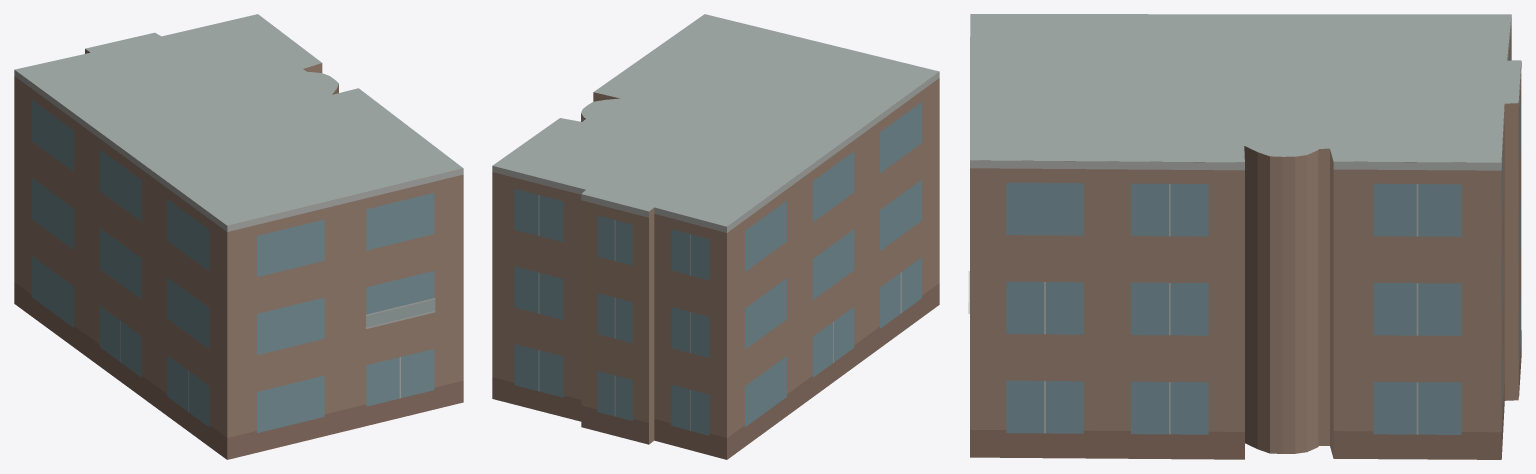
The model's file is survey-upis-32893629.glb.
3 views of the same model, side by side, from view 1: azimuth 30°, elevation 25°; view 2: azimuth 150°, elevation 25°; view 3: azimuth 270°, elevation 25° (orthographic). The views are drawn at different scales.
Visible parts, largest first — view 1: survey-upis-32893629.tmp; view 2: survey-upis-32893629.tmp; view 3: survey-upis-32893629.tmp.
Boxes of the visible parts, box(x1,y1,x2,y2) form: survey-upis-32893629.tmp: box(14, 14, 463, 459); survey-upis-32893629.tmp: box(492, 14, 939, 459); survey-upis-32893629.tmp: box(968, 14, 1521, 459).
Size of the model in its own units: 9.77 by 9.1 by 15.35.
